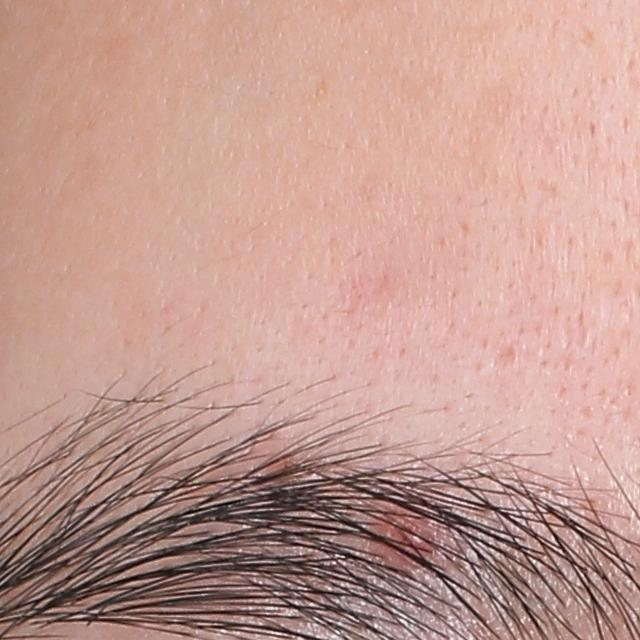atrophic_scar: (488, 339, 523, 369)
papule: (380, 518, 432, 561)
